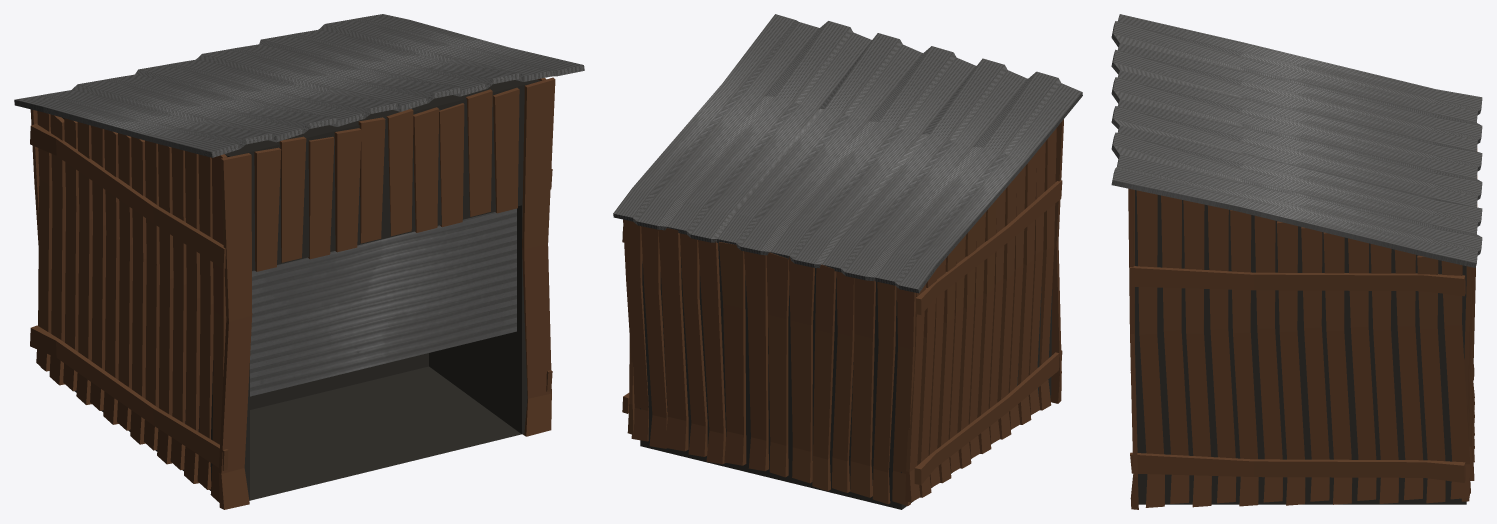
The model's file is garage.fbx.
3 views of the same model, side by side, from view 1: azimuth 30°, elevation 25°; view 2: azimuth 150°, elevation 25°; view 3: azimuth 270°, elevation 25° (orthographic). The views are drawn at different scales.
Parts seen in each view (by area): view 1: garage, garage.001; view 2: garage; view 3: garage.
Boxes of the visible parts, x1,y1,x2,y2 form: garage: (14,14,584,509); garage.001: (250,208,516,396); garage: (613,14,1082,509); garage: (1111,14,1482,509).
Size of the model in its own units: 123 by 120 by 116.
